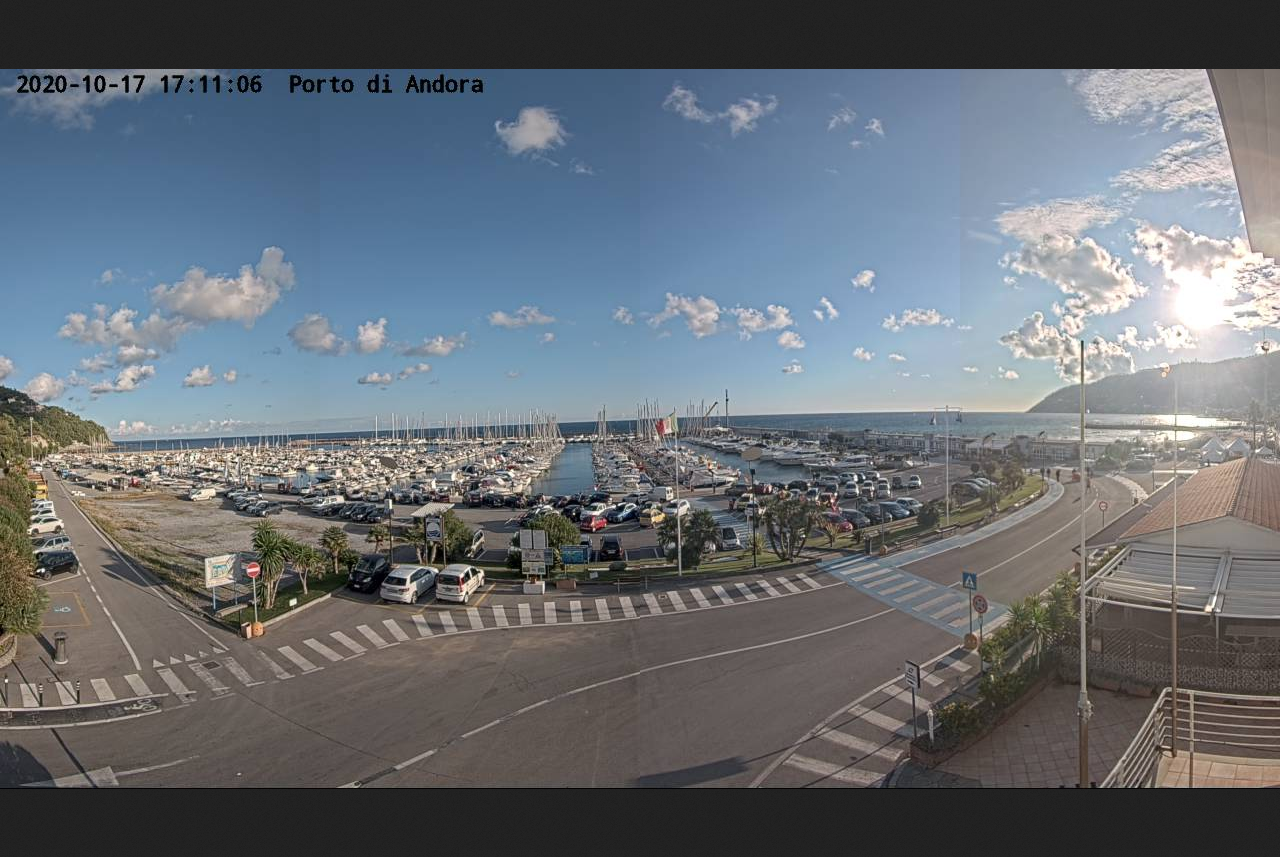yes: (652, 414, 681, 435)
